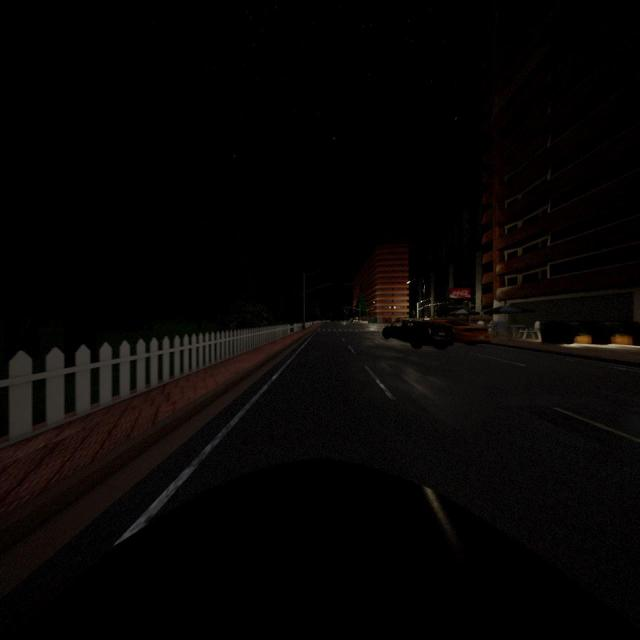Vehicle: (0, 463, 640, 640), (381, 318, 456, 350), (428, 317, 492, 348)
